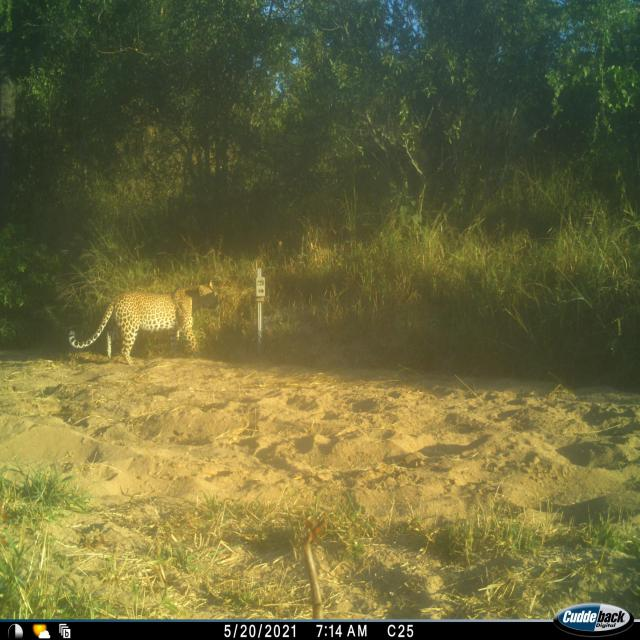Leopard: (94, 279, 216, 363)
